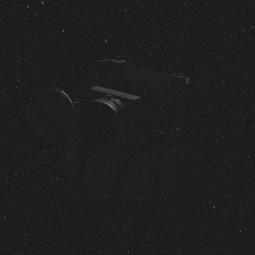cheops: (32, 47, 208, 140)
